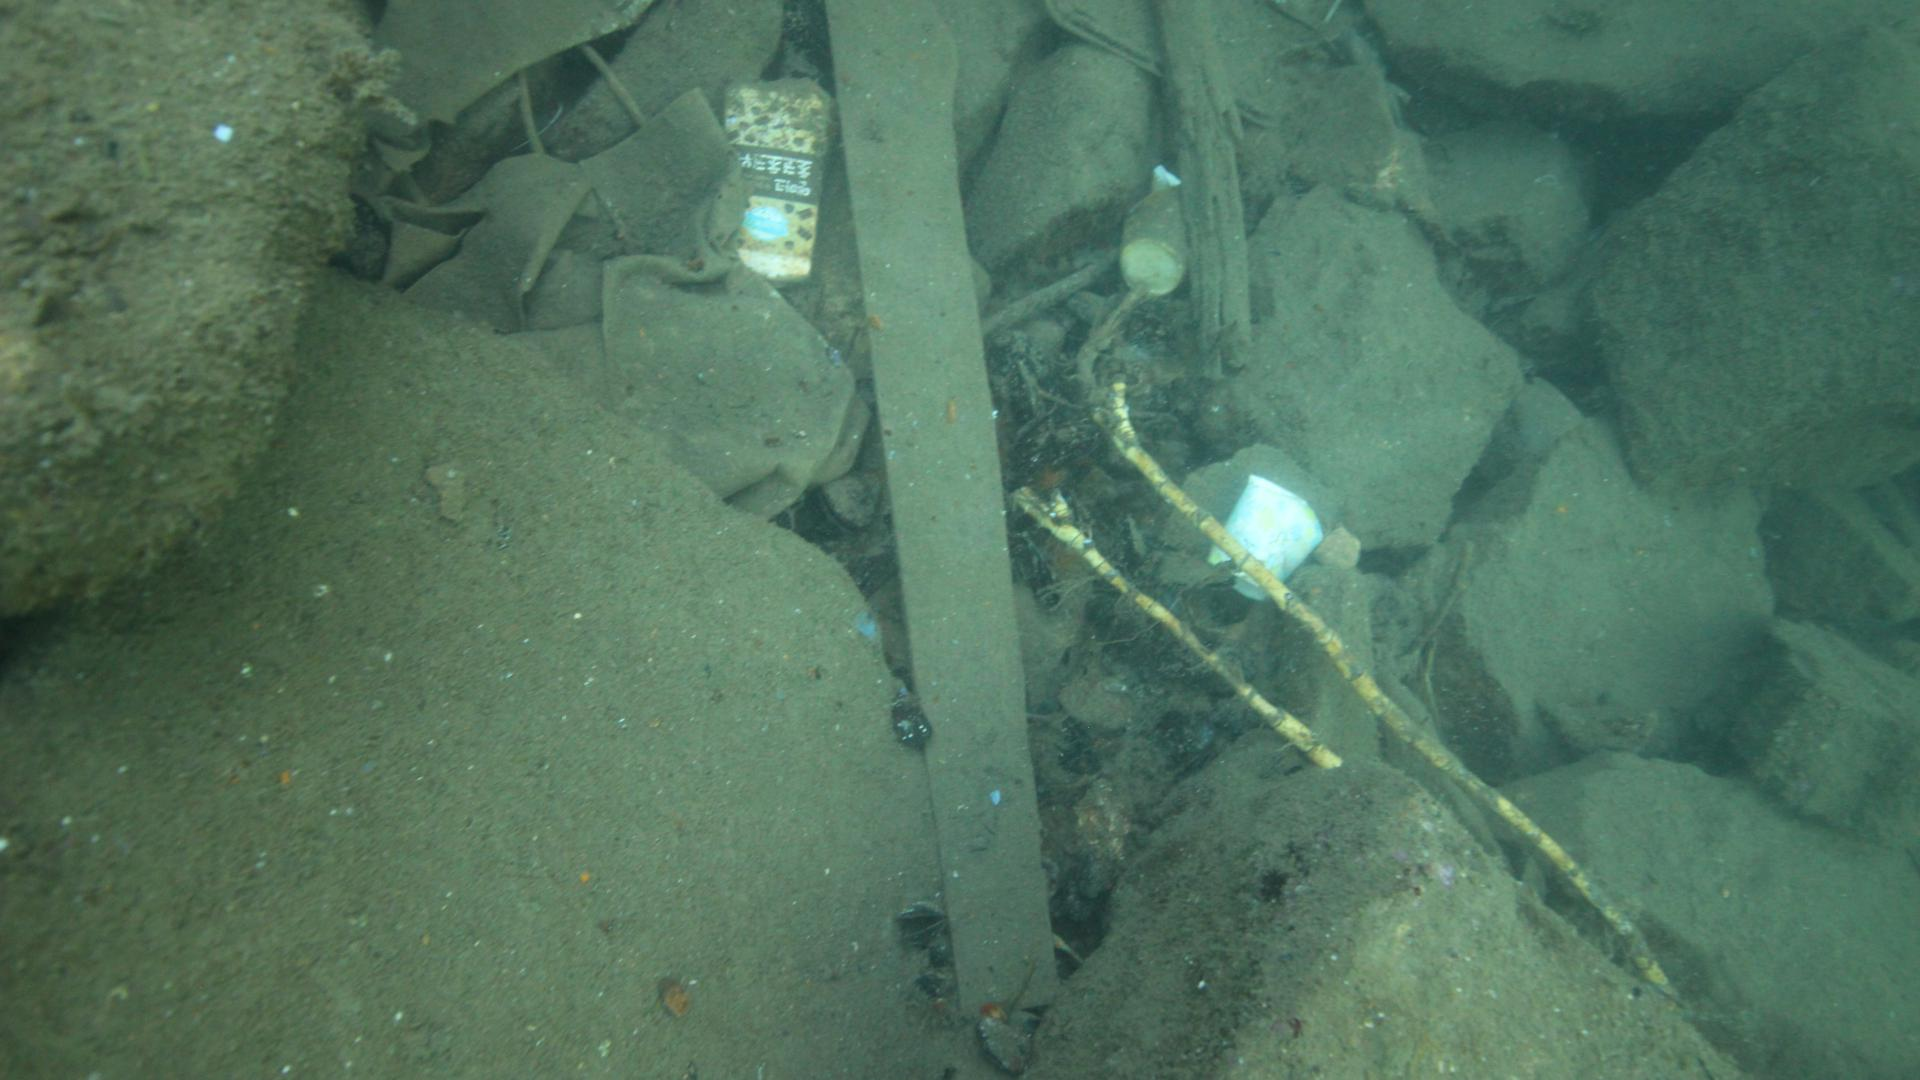wood: (822, 0, 1059, 1019)
